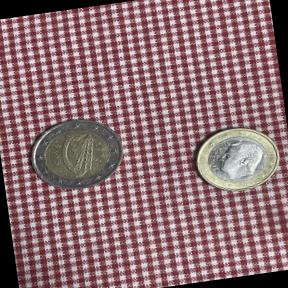1 Euro-B: (183, 116, 287, 201)
2 Euro-B: (19, 107, 132, 200)
